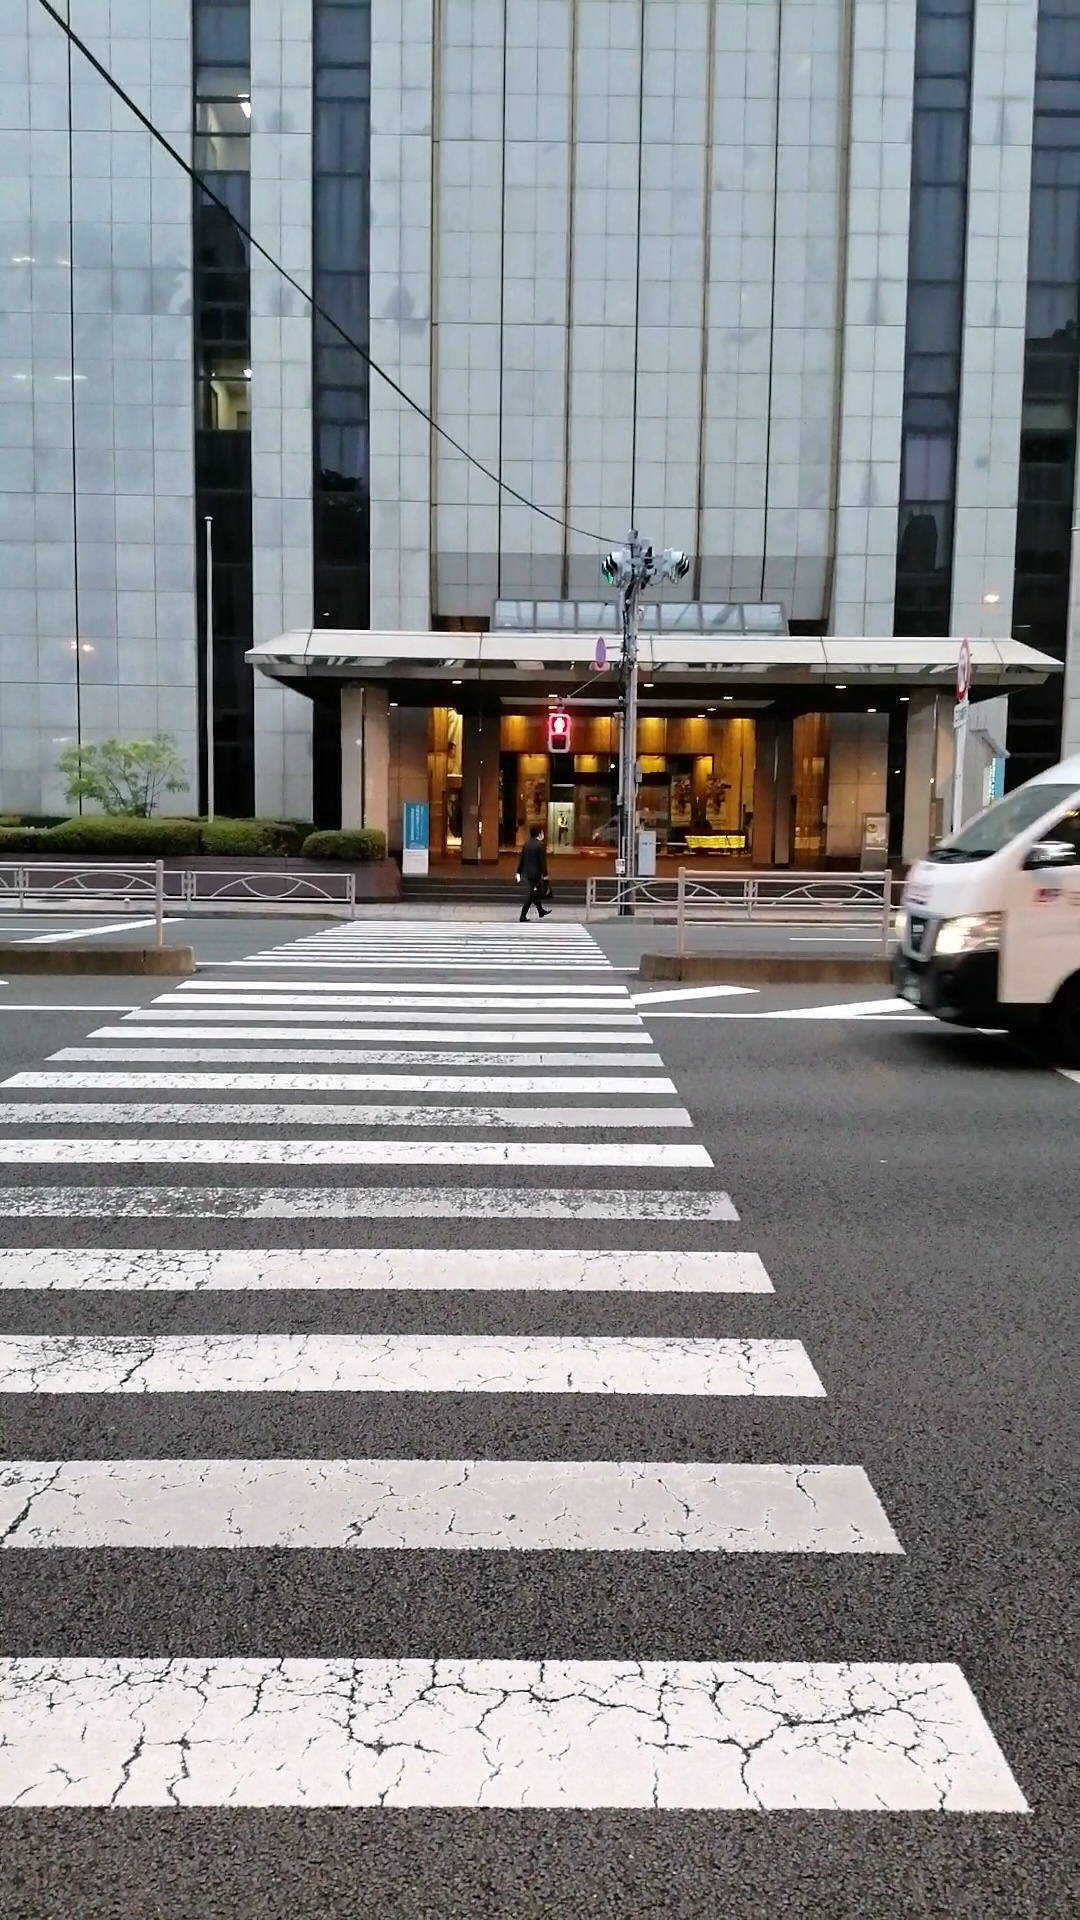red: (547, 712, 570, 752)
